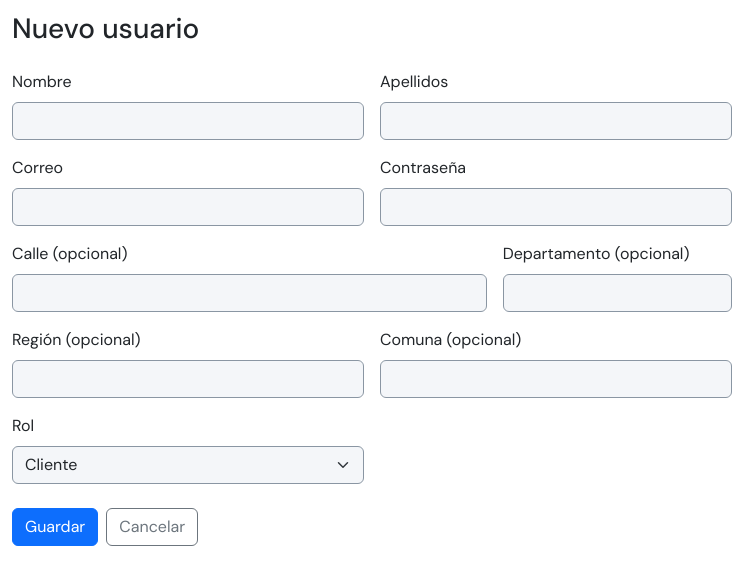
UsuarioForm › no permite un correo repetido
The width and height of the screenshot is (749, 588).
In the field labelled "Nombre": coordinates (188, 121) [12,102,364,140], type "Ana"
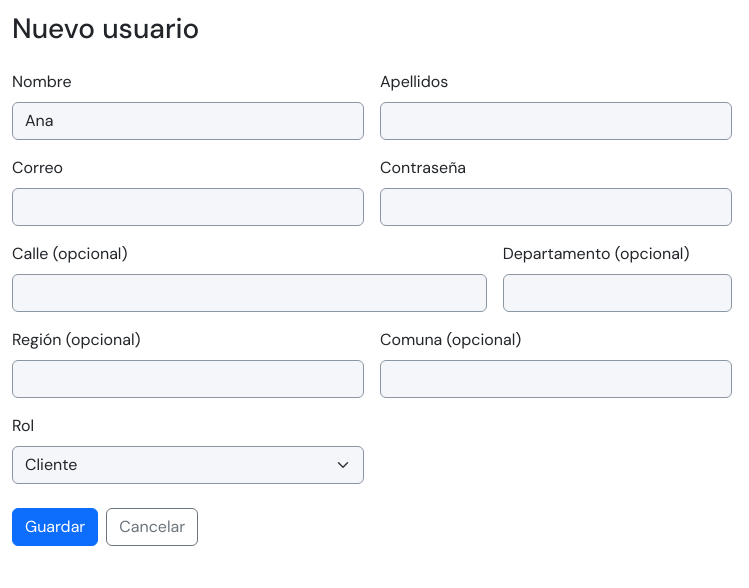
In the field labelled "Apellidos": coordinates (556, 121) [380,102,732,140], type "Soto"
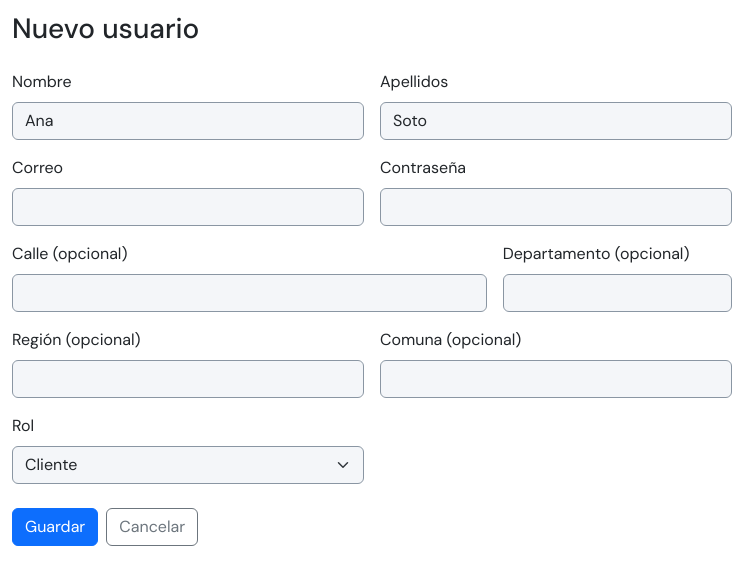
In the field labelled "Correo": coordinates (188, 207) [12,188,364,226], type "Ana@Correo.cl"
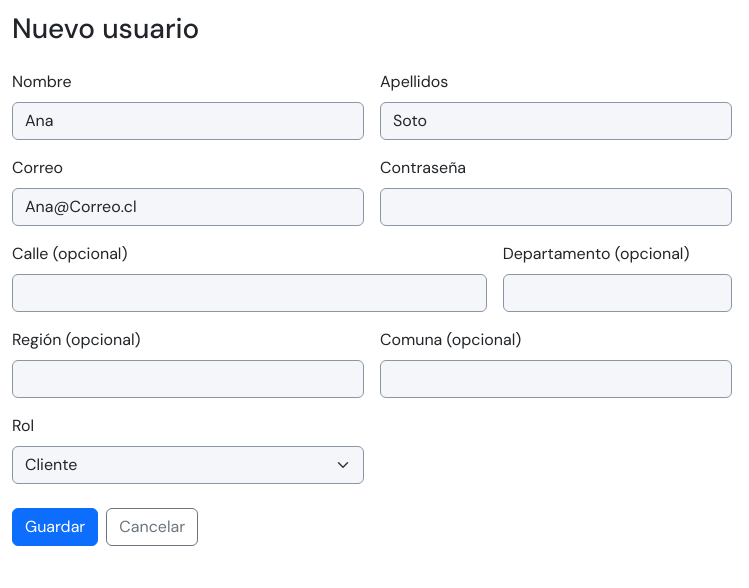
In the password field labelled "Contraseña": coordinates (556, 207) [380,188,732,226], type "ana123"
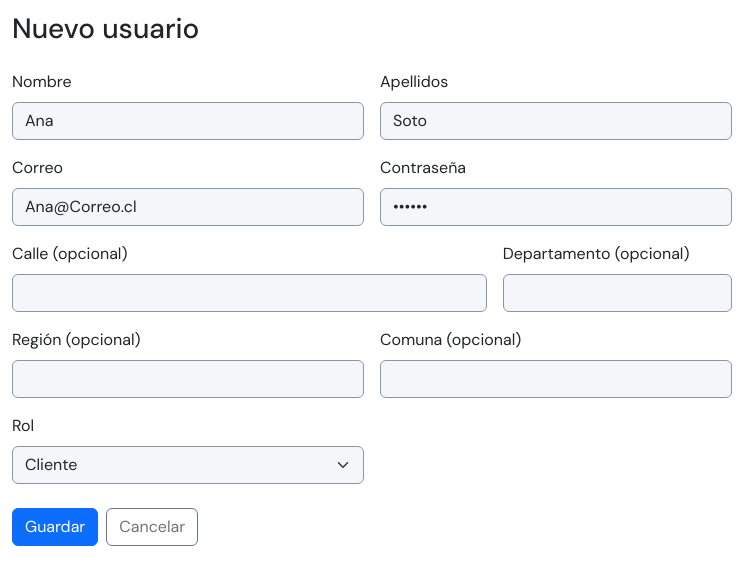
Replace the text in the field labelled "Correo" with "PEDRO@correo.cl": coordinates (188, 207) [12,188,364,226]
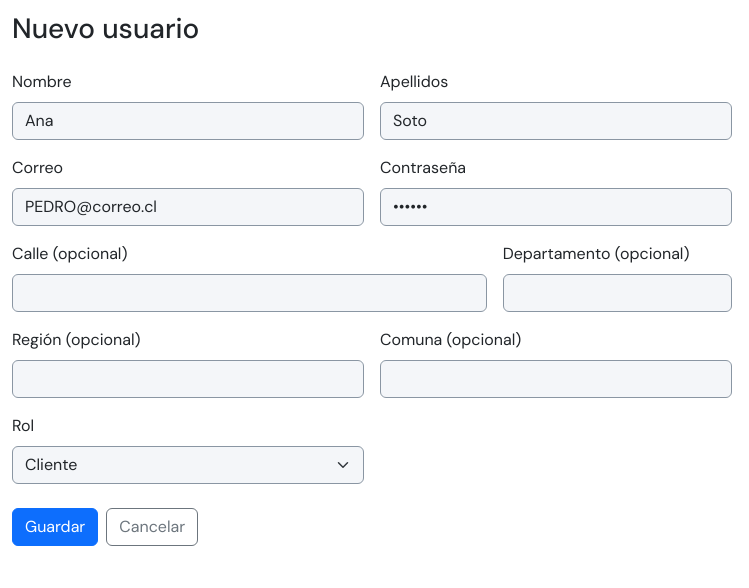
Click the button "Guardar": coordinates (55, 527) [12,508,98,546]
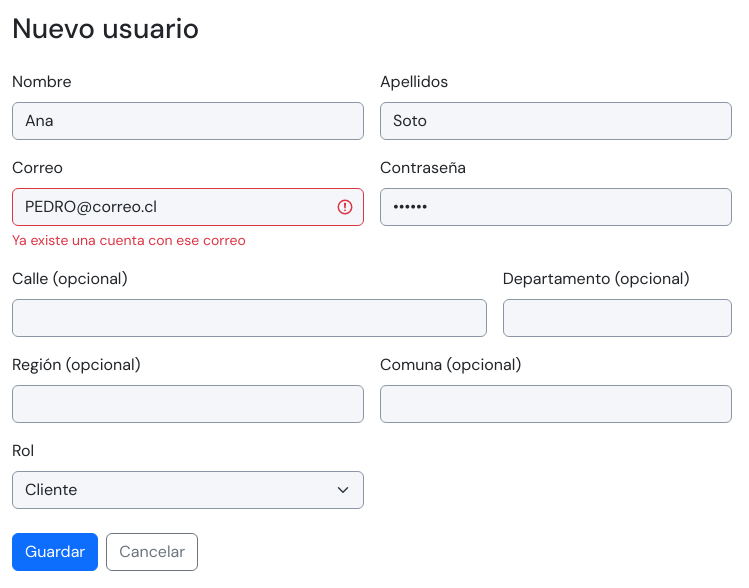
Now the text "Ya existe una cuenta con ese correo" is shown, box [12,231,246,249]
